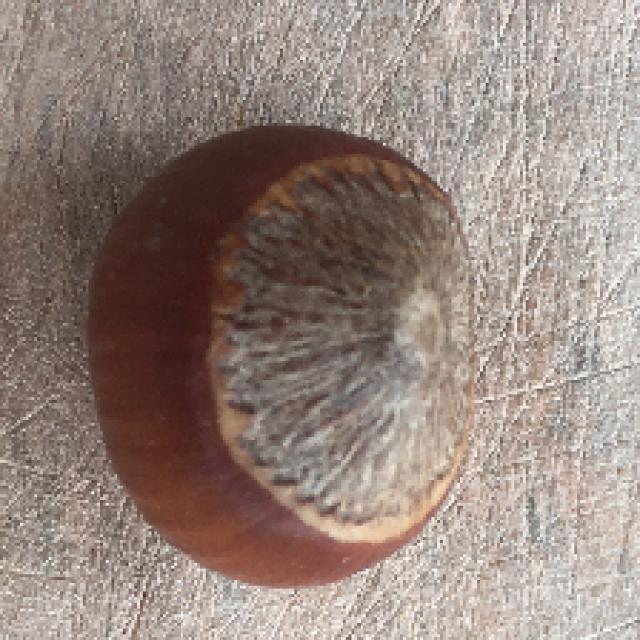DamagedHazelnut: (88, 124, 480, 587)
